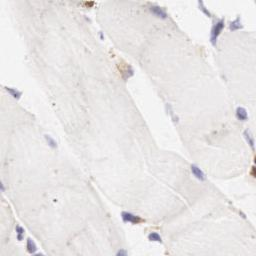nucleus: (210, 19, 226, 44), (4, 85, 22, 100), (147, 4, 165, 17), (244, 129, 256, 148), (191, 164, 205, 180), (235, 106, 249, 121), (230, 17, 244, 30), (45, 134, 57, 149), (199, 1, 211, 16), (27, 237, 38, 253), (122, 211, 133, 222), (148, 231, 160, 241), (124, 67, 134, 78), (14, 225, 23, 233), (116, 250, 127, 256), (83, 14, 90, 23), (240, 209, 246, 219), (1, 181, 6, 192), (32, 252, 44, 256), (17, 234, 23, 241), (99, 31, 103, 40)
positive_cell: (115, 56, 134, 79), (122, 211, 146, 224)
